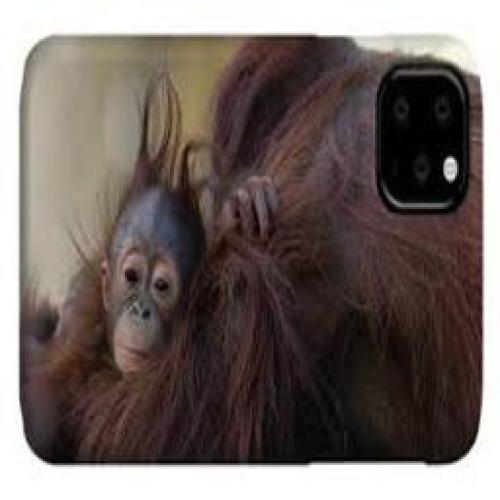orangutan-endangered: (34, 40, 463, 445), (57, 88, 285, 396)
